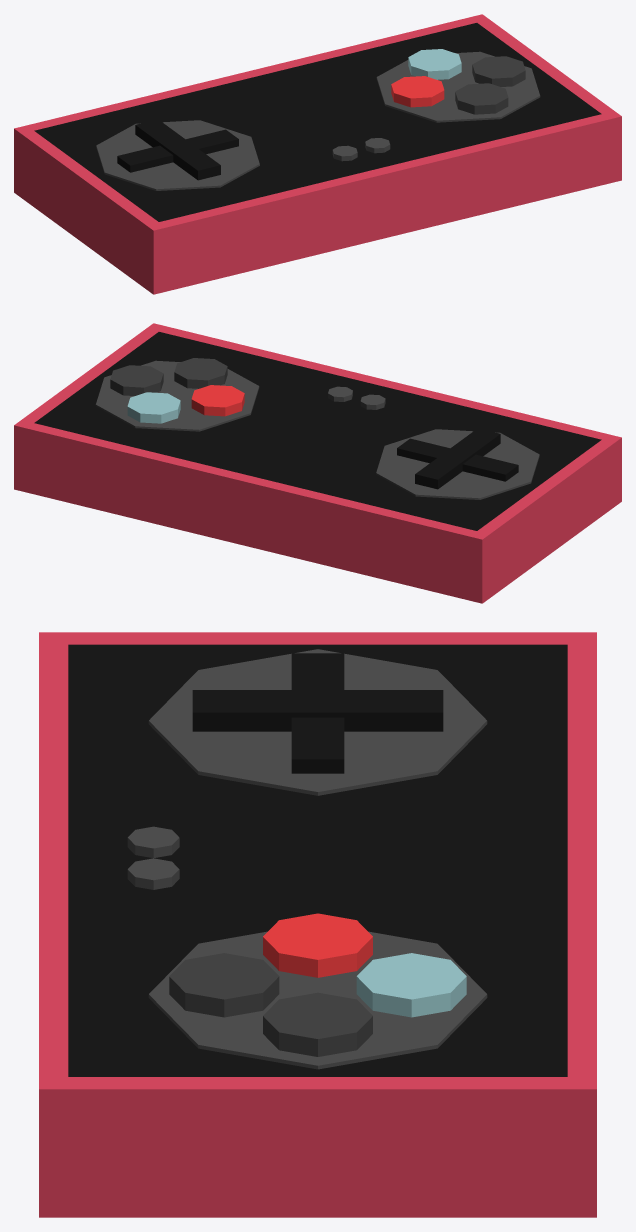
File: Itr_Obj_Console_Controller_03.FBX
3 renders of one model, top to bottom at view 1: azimuth 30°, elevation 25°; view 2: azimuth 150°, elevation 25°; view 3: azimuth 270°, elevation 25°, orthographic. The views are drawn at different scales.
Visible parts, largest first — view 1: Itr_Obj_Console_Controller_03; view 2: Itr_Obj_Console_Controller_03; view 3: Itr_Obj_Console_Controller_03.
Boxes of the visible parts, x1,y1,x2,y2 form: Itr_Obj_Console_Controller_03: (14, 14, 621, 294); Itr_Obj_Console_Controller_03: (14, 323, 621, 603); Itr_Obj_Console_Controller_03: (39, 632, 596, 1217).
Bounding box in the file's own units: 4.9 × 0.7554 × 2.53.
